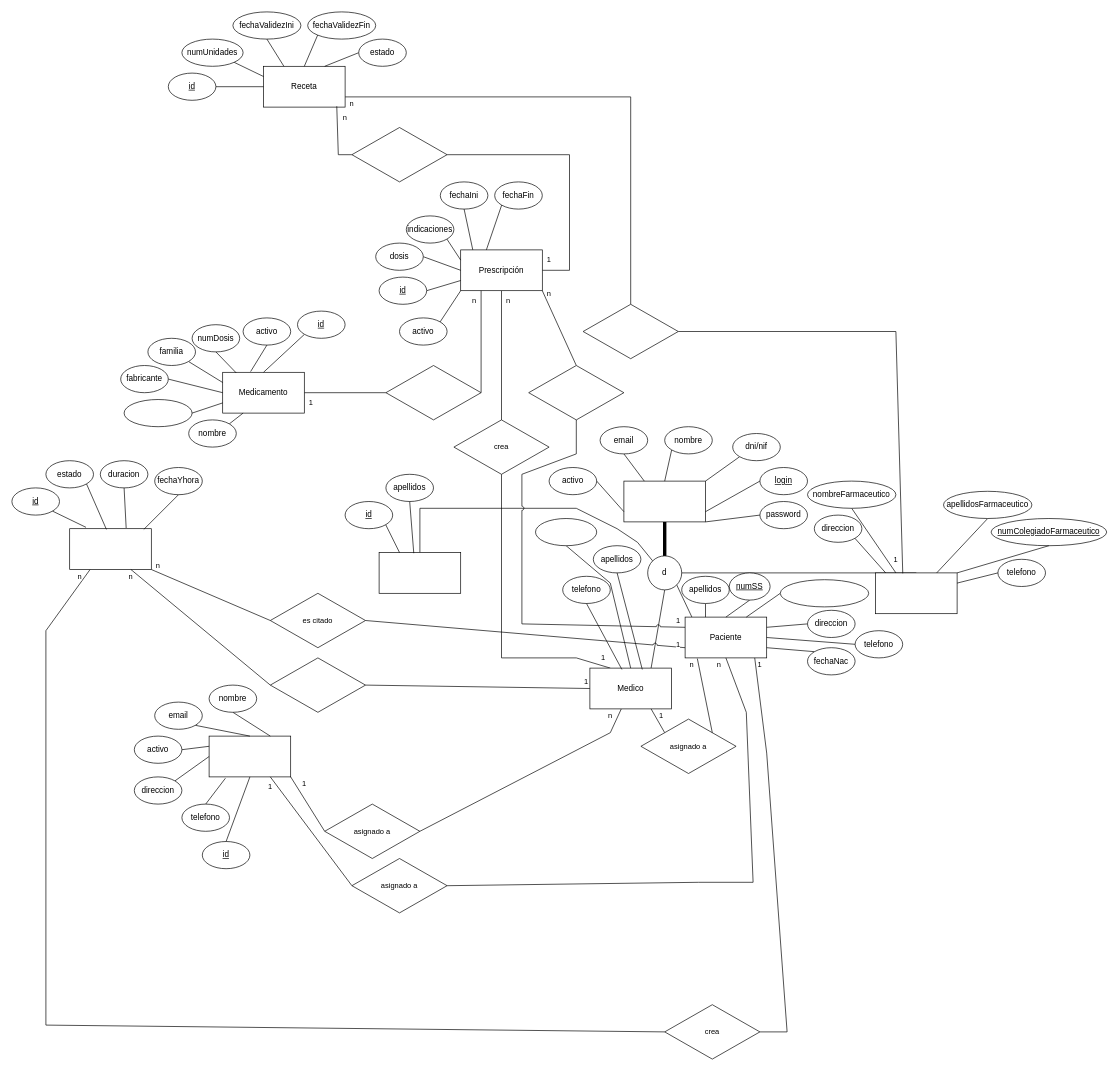
Image size: 1119x1071. Some labels were removed from this diagram. Each missing label, with the centre of its shape:
"Administrador" goes at pixel 419 572.
"atiende" goes at pixel 318 684.
"Centro de salud" goes at pixel 249 756.
"Cita" goes at pixel 110 549.
"es prescrito" goes at pixel 433 392.
"Farmacia" goes at pixel 916 593.
"le pertenece" goes at pixel 576 392.
"NumColegiado" goes at pixel 566 532.
"numTarjetaSanitaria" goes at pixel 824 593.
"pertenece a" goes at pixel 399 154.
"principioActivo" goes at pixel 157 413.
"sirve" goes at pixel 630 331.
"Usuario" goes at pixel 664 501.
